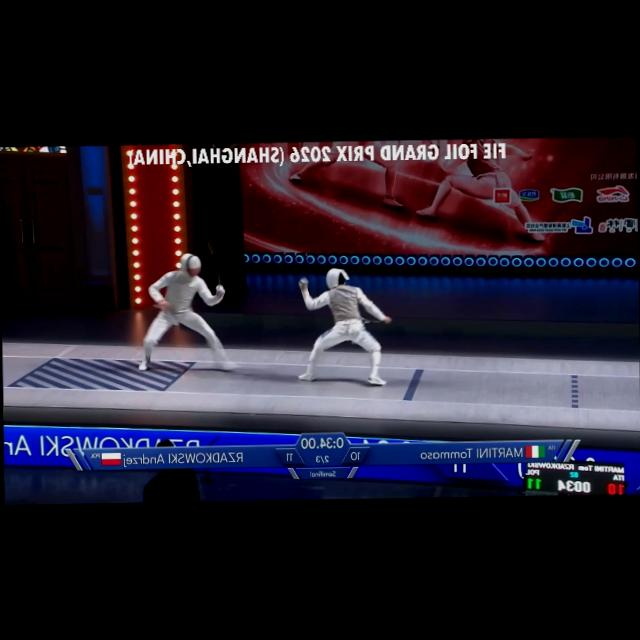blade: (202, 238, 232, 296)
